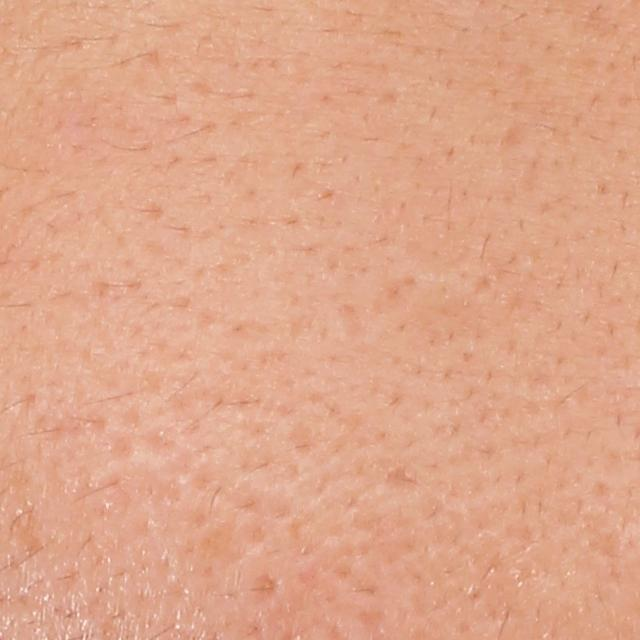atrophic_scar: (243, 573, 285, 611)
